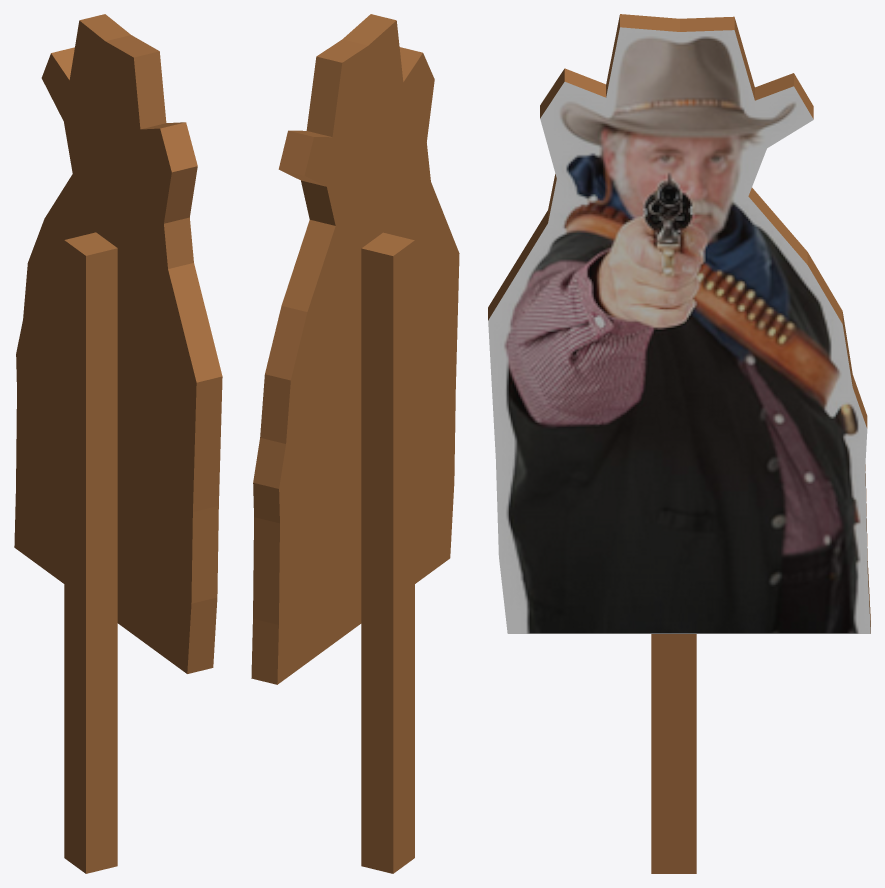
The model's file is enemy1.gltf.
3 views of the same model, side by side, from view 1: azimuth 30°, elevation 25°; view 2: azimuth 150°, elevation 25°; view 3: azimuth 270°, elevation 25° (orthographic). The views are drawn at different scales.
Visible parts, largest first — view 1: Plane.002, Pole; view 2: Plane.002, Pole; view 3: Plane.001, Pole, Plane.002.
Part boxes in pixels (x1,y1,x2,y2): Plane.002: [14, 14, 222, 673]; Pole: [64, 232, 117, 873]; Plane.002: [251, 14, 459, 684]; Pole: [361, 232, 414, 873]; Plane.001: [488, 27, 870, 633]; Pole: [651, 634, 696, 873]; Plane.002: [488, 14, 870, 633].
Size of the model in its own units: 0.4539 by 6.03 by 2.43.
2 materials, 1 textured.
